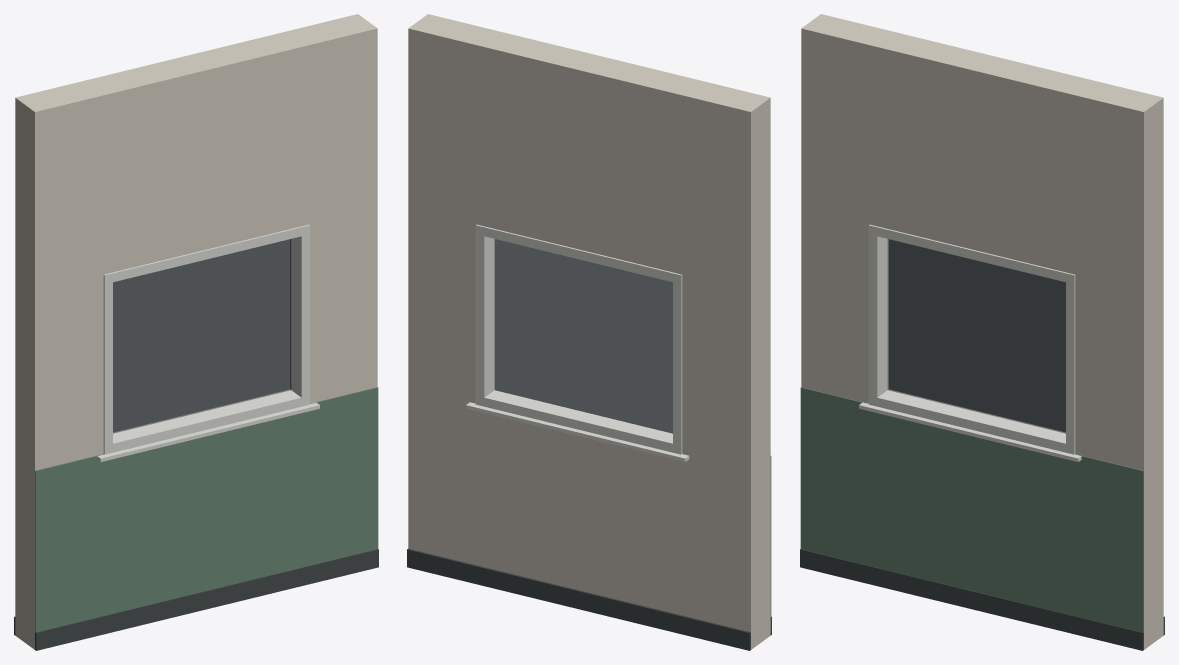
The model's file is MOD_Wall_2m_ObservationWindow.glb.
3 views of the same model, side by side, from view 1: azimuth 30°, elevation 25°; view 2: azimuth 150°, elevation 25°; view 3: azimuth 330°, elevation 25° (orthographic).
Parts seen in each view (by area): view 1: MOD_Wall_2m_ObservationWindow_Mesh; view 2: MOD_Wall_2m_ObservationWindow_Mesh; view 3: MOD_Wall_2m_ObservationWindow_Mesh.
Boxes of the visible parts, x1,y1,x2,y2 form: MOD_Wall_2m_ObservationWindow_Mesh: (14, 14, 378, 650); MOD_Wall_2m_ObservationWindow_Mesh: (407, 14, 771, 650); MOD_Wall_2m_ObservationWindow_Mesh: (800, 14, 1164, 650).
Size of what is drawn, in the model's own units: 2 by 3 by 0.28.
